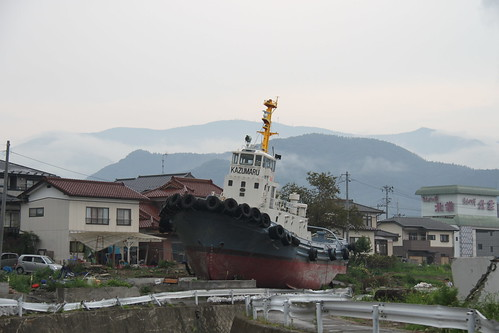boat: (166, 149, 357, 285)
building: (21, 180, 138, 265), (422, 182, 499, 262), (376, 216, 455, 257)
sky: (1, 1, 499, 120)
